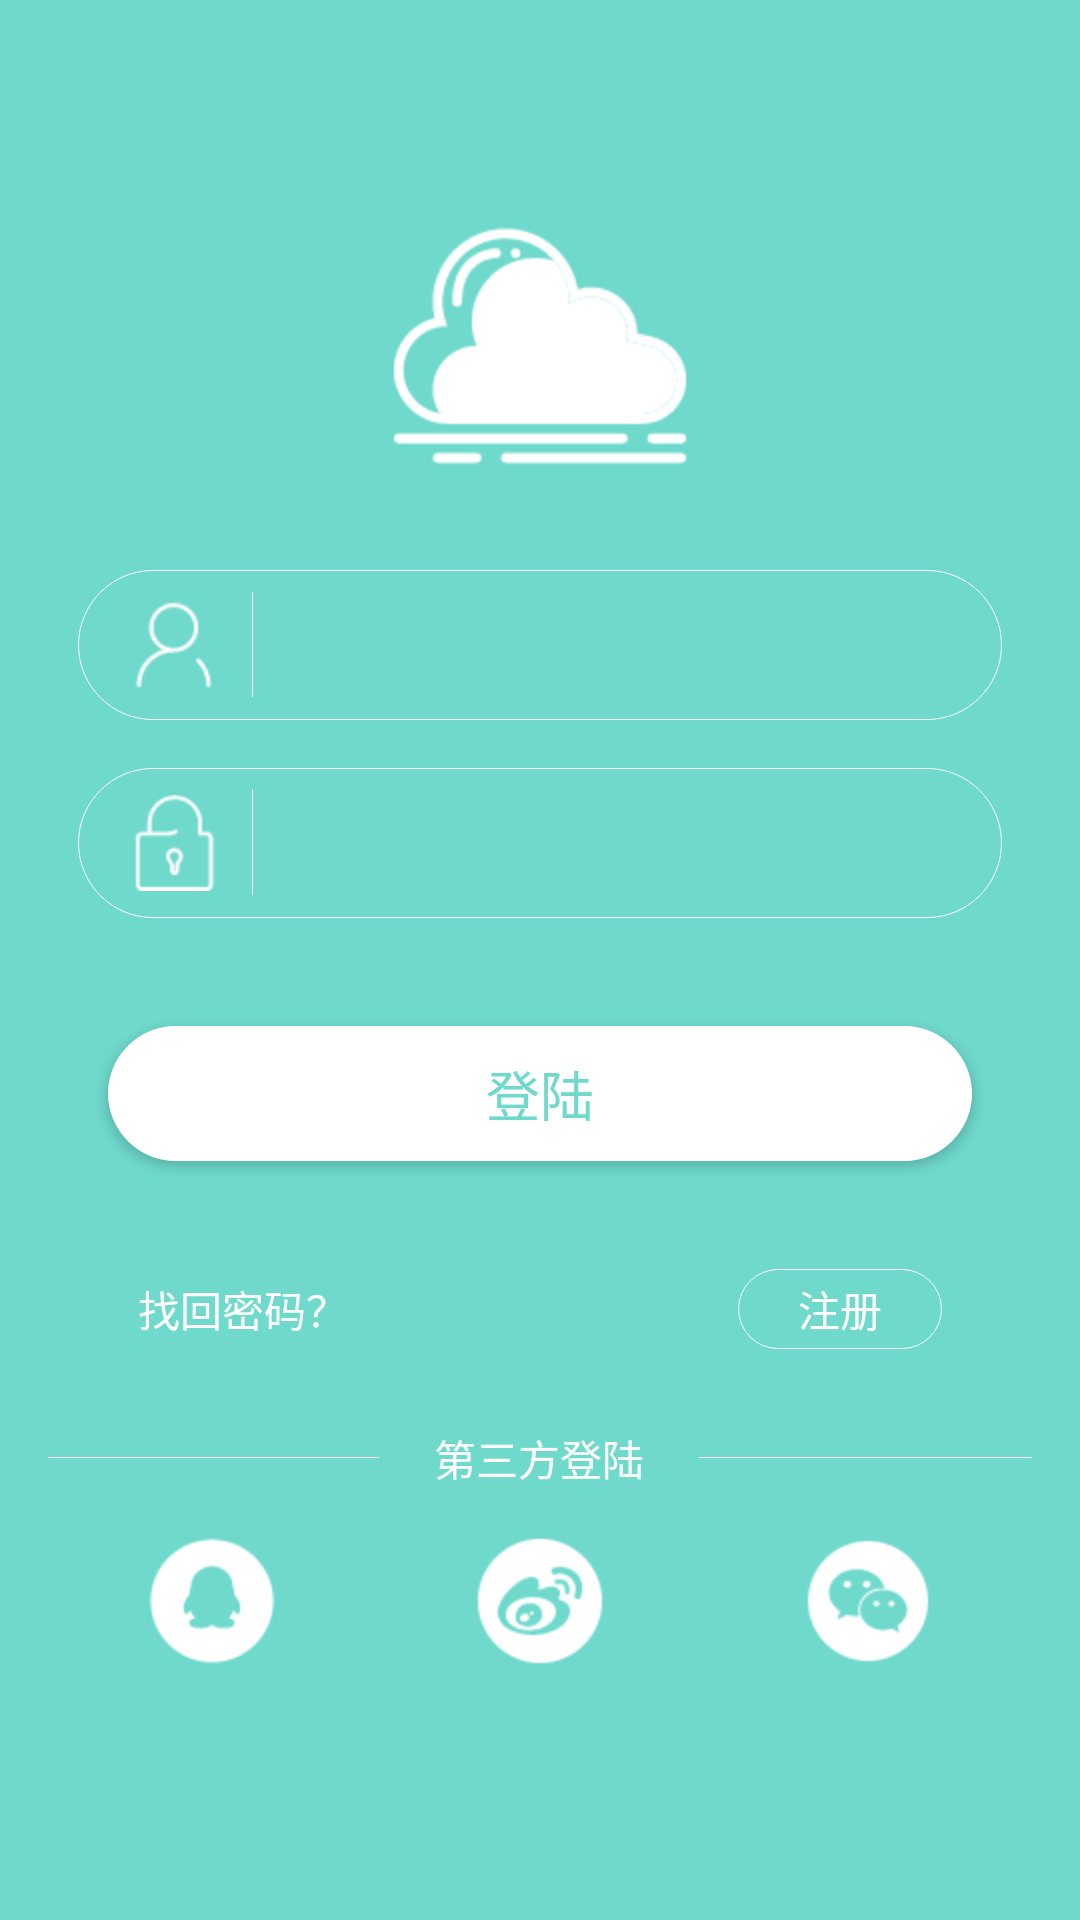

Locate icon controls on the screen. Image size 1080 x 1920, boxes as (x1, y1, x2, y2).
cloud: (393, 228, 687, 464)
login account: (136, 602, 212, 688)
login password: (135, 795, 214, 891)
